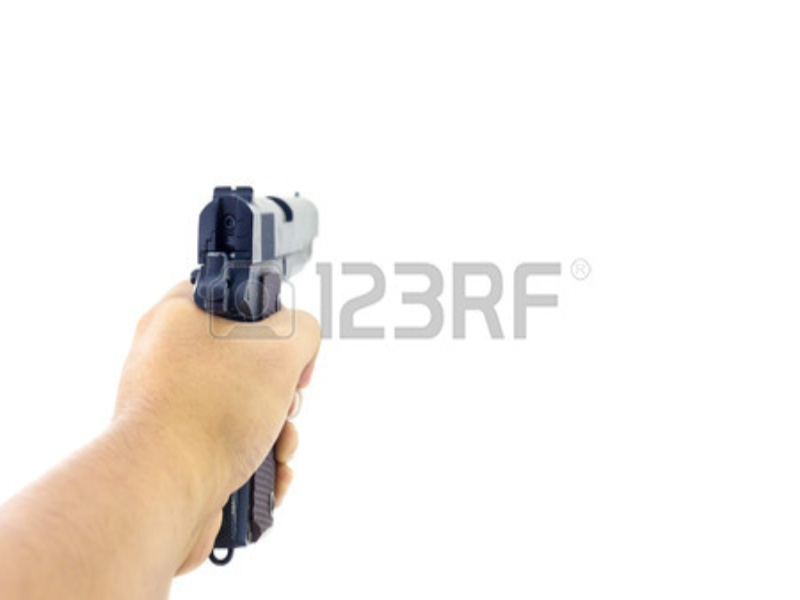gun: (154, 164, 323, 561)
